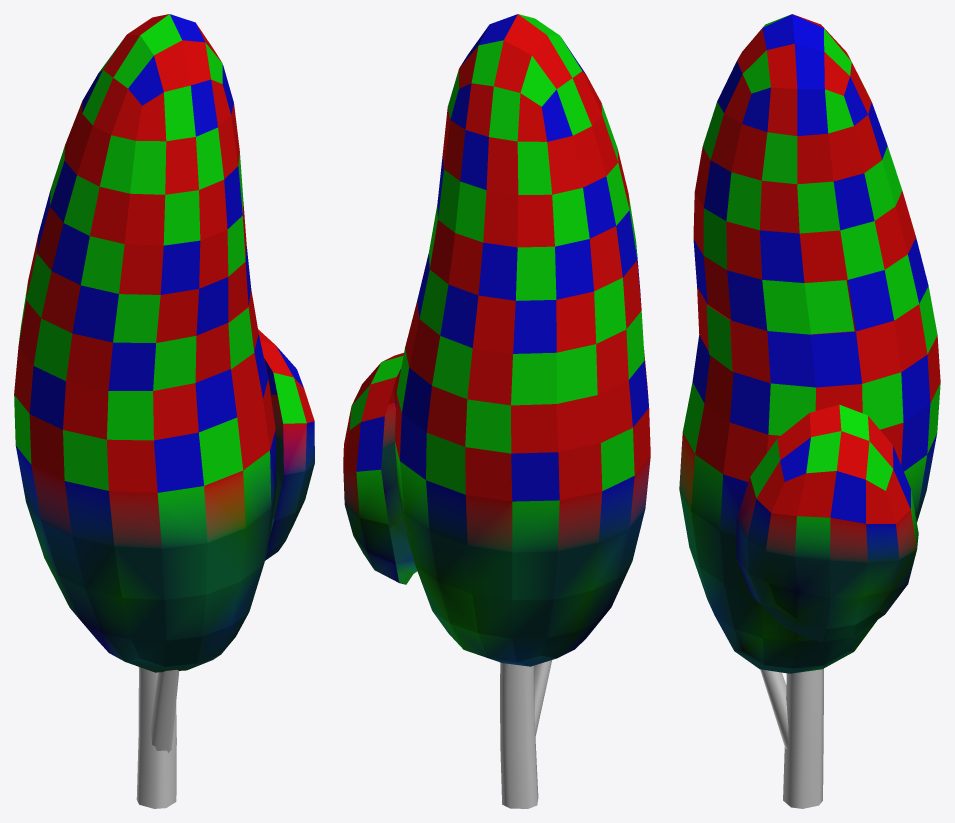
The model's file is Tree_B_02.fbx.
3 views of the same model, side by side, from view 1: azimuth 30°, elevation 25°; view 2: azimuth 150°, elevation 25°; view 3: azimuth 270°, elevation 25° (orthographic).
Parts seen in each view (by area): view 1: Tree_B_02_Leaves, Tree_B_02_Trunk; view 2: Tree_B_02_Leaves, Tree_B_02_Trunk; view 3: Tree_B_02_Leaves, Tree_B_02_Trunk.
Boxes of the visible parts, x1=… form: Tree_B_02_Leaves: x1=14, y1=14, x2=314, y2=672; Tree_B_02_Trunk: x1=136, y1=667, x2=179, y2=808; Tree_B_02_Leaves: x1=343, y1=14, x2=650, y2=666; Tree_B_02_Trunk: x1=500, y1=660, x2=551, y2=808; Tree_B_02_Leaves: x1=679, y1=14, x2=940, y2=673; Tree_B_02_Trunk: x1=760, y1=668, x2=823, y2=808.
Bounding box in the file's own units: 1.49 × 4.14 × 1.24.
